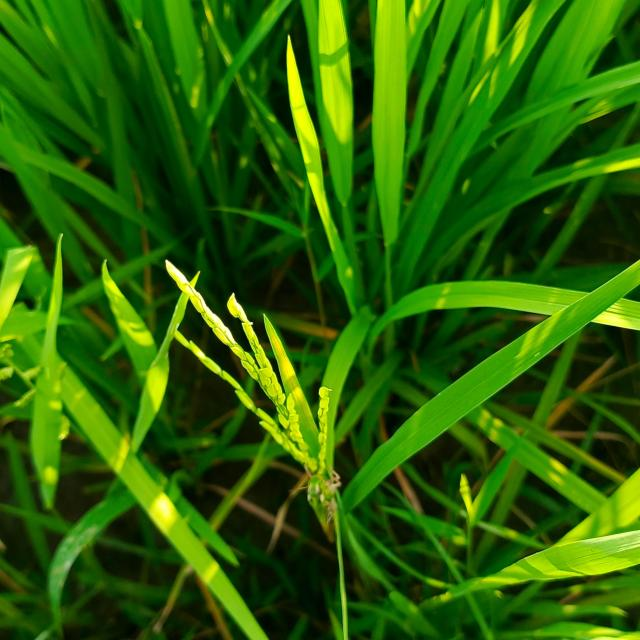belalang pada tanaman padi: (287, 459, 361, 558)
